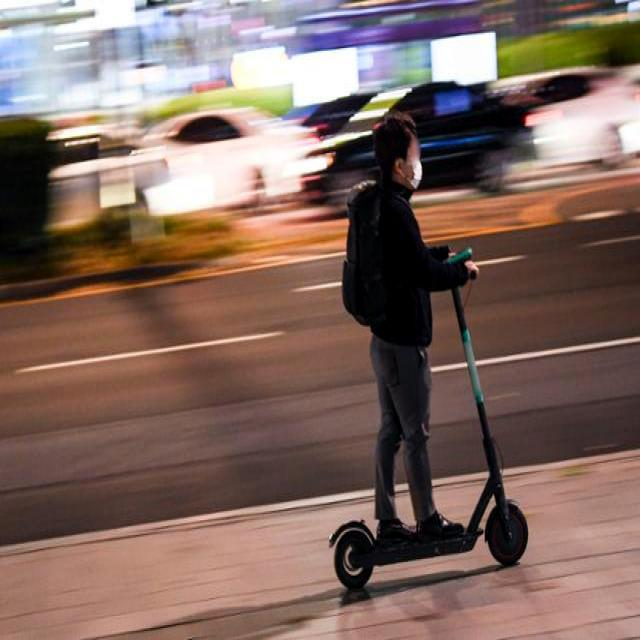bare_head: (362, 116, 441, 190)
human: (321, 100, 459, 532)
kickboard: (299, 510, 553, 569)
